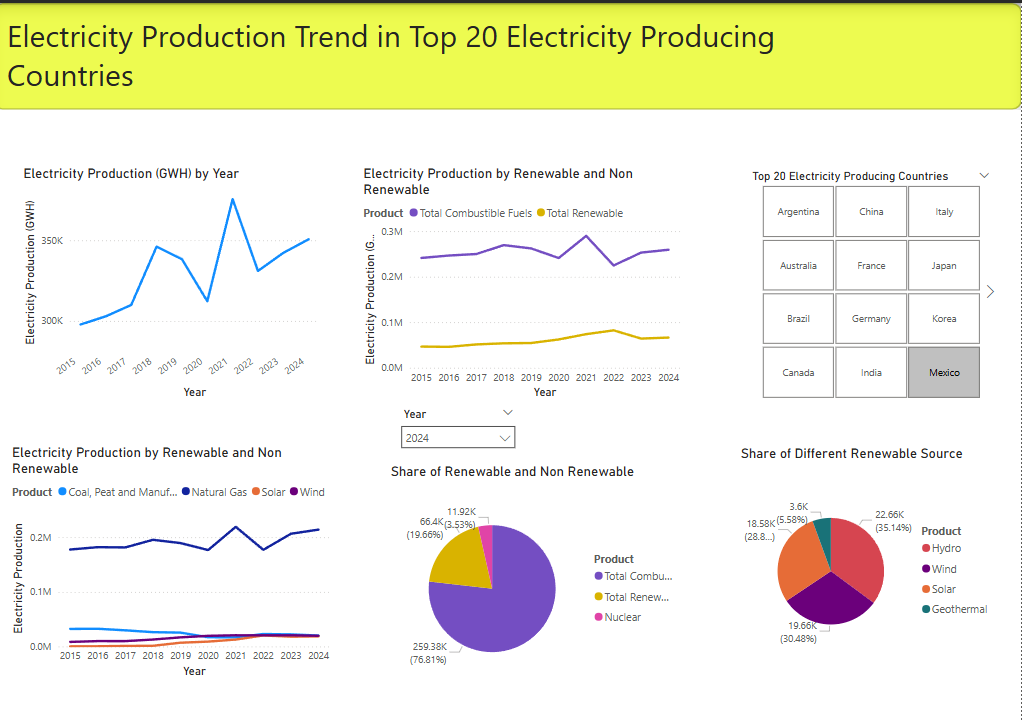

What the dashboard file says about the page in this screenshot:
{"tool":"powerbi","page":{"name":"Electricity Generation Trend","canvas":[1280,900],"ordinal":1},"visuals":[{"type":"lineChart","fields":{"Category":["Energy Data.Year"],"Y":["Sum(Energy Data.Value)"]},"box":[32.7,202.1,377.9,295.4],"z":0},{"type":"slicer","fields":{"Values":["Energy Data.Country"]},"box":[931.4,202.1,320.3,295.4],"z":1000},{"type":"lineChart","title":"Electricity Production by  Renewable and Non Renewable","fields":{"Category":["Energy Data.Year"],"Y":["Sum(Energy Data.Value)"],"Series":["Energy Data.Product"]},"box":[455.6,202.1,405.8,295.4],"z":2000},{"type":"lineChart","title":"Electricity Production by  Renewable and Non Renewable","fields":{"Category":["Energy Data.Year"],"Y":["Sum(Energy Data.Value)"],"Series":["Energy Data.Product"]},"box":[18.7,548.9,407.4,295.4],"z":3000},{"type":"pieChart","title":"Share of Renewable and Non Renewable","fields":{"Category":["Energy Data.Product"],"Y":["Sum(Energy Data.Value)"]},"box":[489.8,572.2,371.6,293.9],"z":4000},{"type":"pieChart","title":"Share of Different Renewable Source","fields":{"Category":["Energy Data.Product"],"Y":["Sum(Energy Data.Value)"]},"box":[925.2,550.5,326.5,293.9],"z":5000},{"type":"slicer","fields":{"Values":["Energy Data.Year"]},"box":[497.6,497.6,161.7,74.6],"z":6000},{"type":"shape","box":[0,0,1280.2,133],"z":7000},{"type":"textbox","box":[12.1,8.6,1116.1,117.5],"z":8000}]}

Visuals, with their boxes in screenshot pixels (x1, y1, x2, y2), scaled from the page's 1280x900 canvas onto the 1022x721 screenshot:
lineChart - Energy Data.Year x Sum(Energy Data.Value): locate(26, 162, 328, 399)
slicer - Energy Data.Country: locate(744, 162, 999, 399)
"Electricity Production by  Renewable and Non Renewable" lineChart: locate(364, 162, 688, 399)
"Electricity Production by  Renewable and Non Renewable" lineChart: locate(15, 440, 340, 676)
"Share of Renewable and Non Renewable" pieChart: locate(391, 458, 688, 694)
"Share of Different Renewable Source" pieChart: locate(739, 441, 999, 676)
slicer - Energy Data.Year: locate(397, 399, 526, 458)
shape: locate(0, 0, 1021, 107)
textbox: locate(10, 7, 901, 101)
